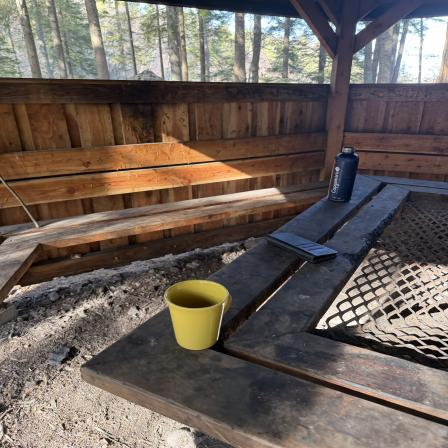blue_bottle: (330, 145, 360, 202)
phone: (264, 230, 344, 266)
yellow_cup: (164, 280, 234, 352)
